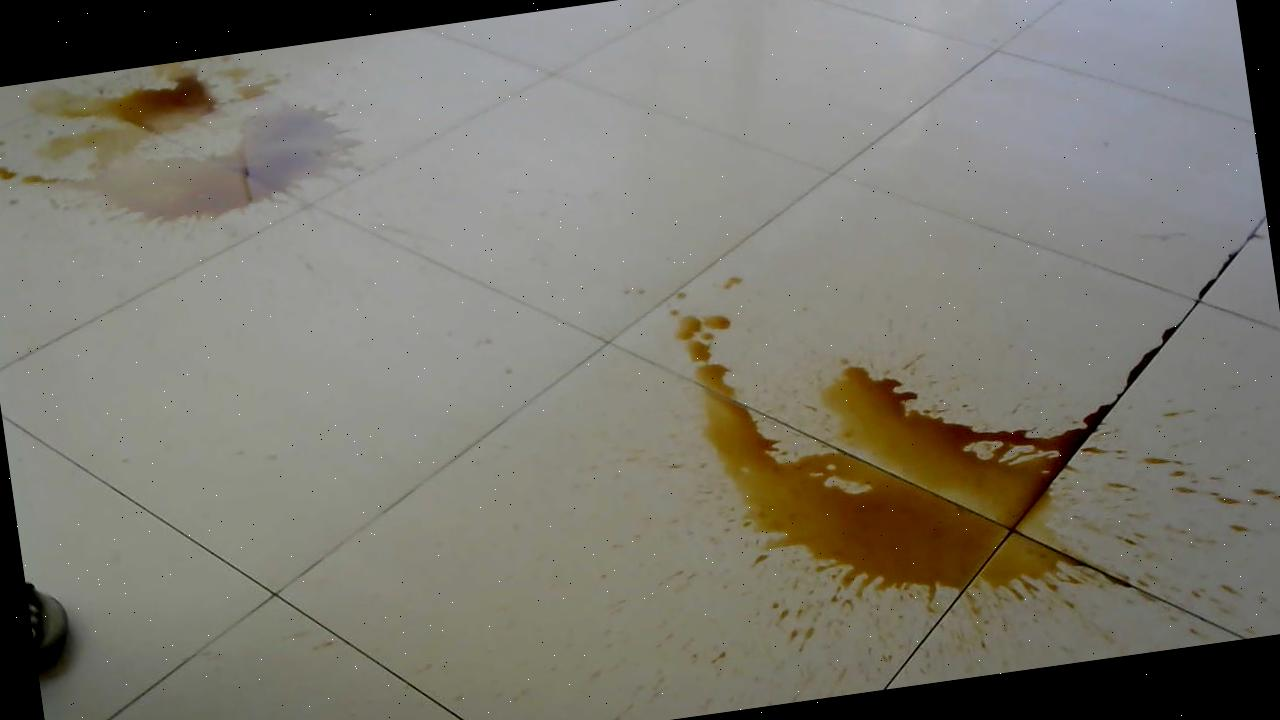dirty_floor: (653, 234, 1148, 624), (0, 44, 393, 249)
